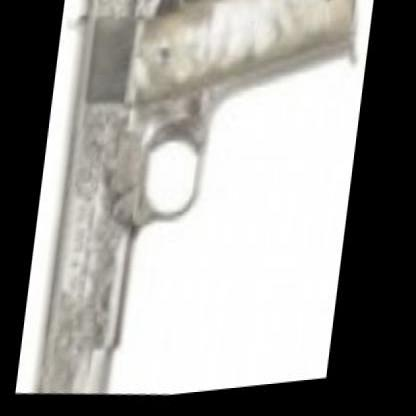pistol: (23, 0, 362, 411)
